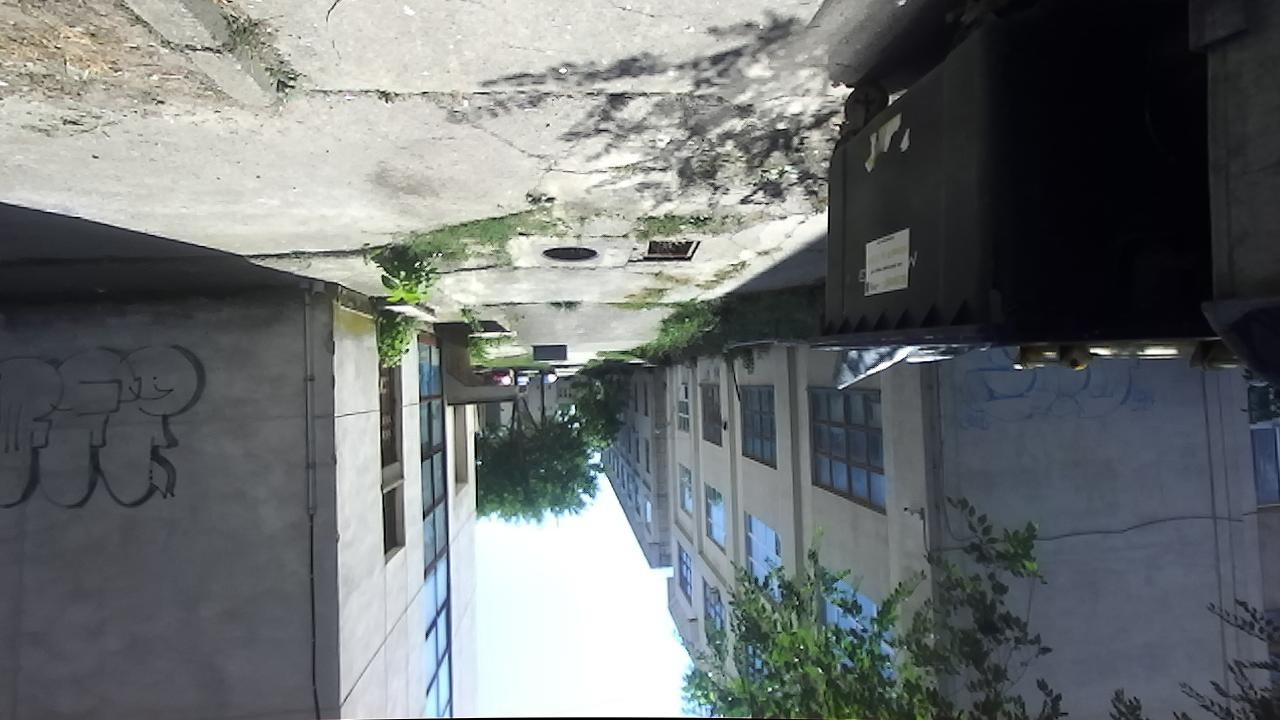drain: (643, 235, 704, 265), (541, 244, 602, 269)
